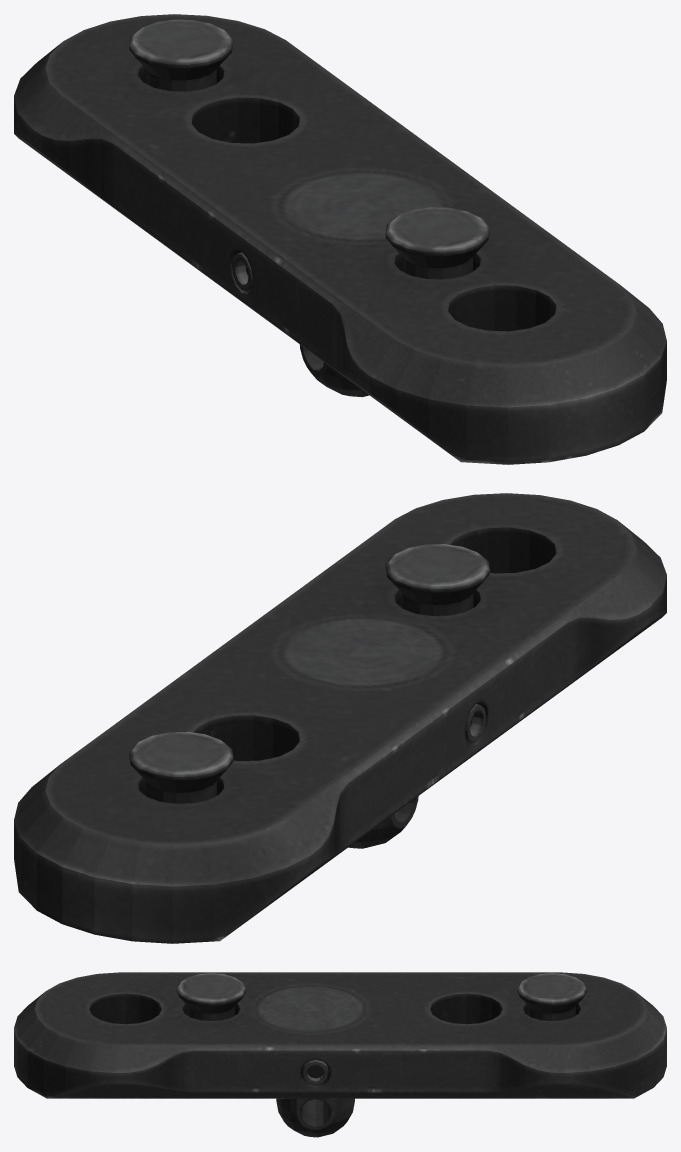
3 renders of one model, top to bottom at view 1: azimuth 30°, elevation 25°; view 2: azimuth 150°, elevation 25°; view 3: azimuth 270°, elevation 25°, orthographic. The views are drawn at different scales.
Parts seen in each view (by area): view 1: TW_671126a210d67adb5b08e925_PZ_Import; view 2: TW_671126a210d67adb5b08e925_PZ_Import; view 3: TW_671126a210d67adb5b08e925_PZ_Import.
Boxes of the visible parts, x1,y1,x2,y2 form: TW_671126a210d67adb5b08e925_PZ_Import: (14, 14, 666, 464); TW_671126a210d67adb5b08e925_PZ_Import: (14, 493, 666, 943); TW_671126a210d67adb5b08e925_PZ_Import: (14, 972, 666, 1137).
Size of the model in its own units: 0.0145 by 0.0443 by 0.011.
1 material, 1 textured.
